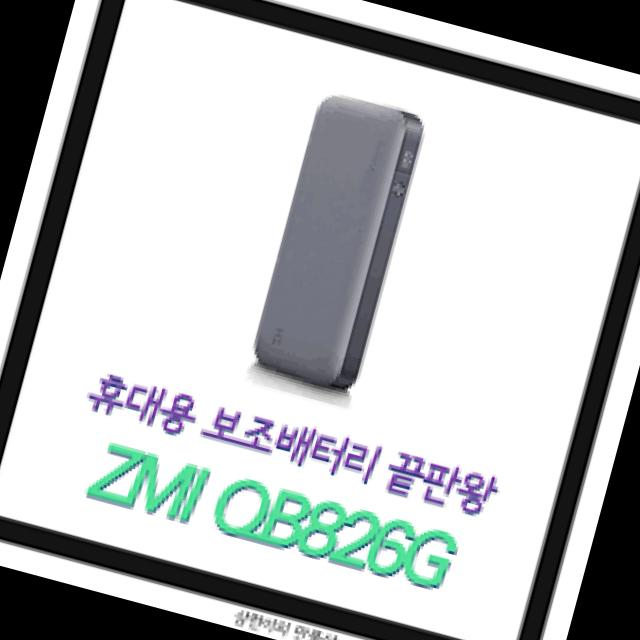power_bank: (246, 88, 429, 402)
